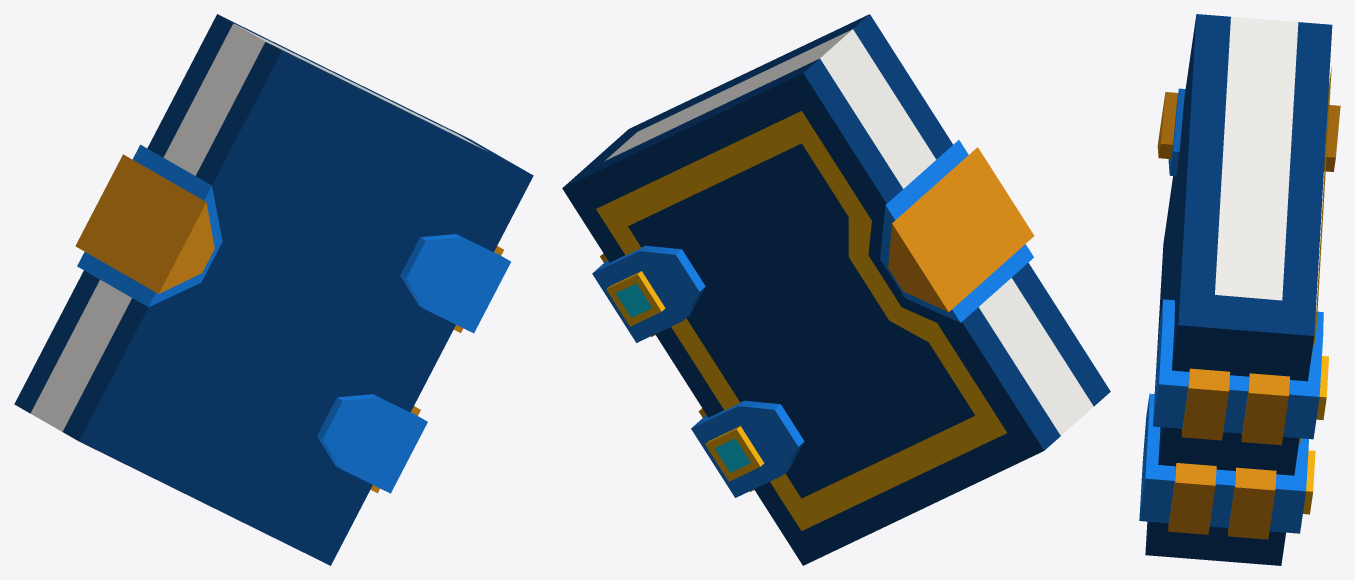
Rendered from Spellbook 01.FBX.
3 views of the same model, side by side, from view 1: azimuth 30°, elevation 25°; view 2: azimuth 150°, elevation 25°; view 3: azimuth 270°, elevation 25° (orthographic). The views are drawn at different scales.
Visible parts, largest first — view 1: Spellbook 01; view 2: Spellbook 01; view 3: Spellbook 01.
Boxes of the visible parts, x1,y1,x2,y2 form: Spellbook 01: (14, 14, 533, 565); Spellbook 01: (562, 14, 1110, 565); Spellbook 01: (1139, 14, 1340, 565).
Bounding box in the file's own units: 62.77 × 66.67 × 22.55.
1 material, 1 textured.
